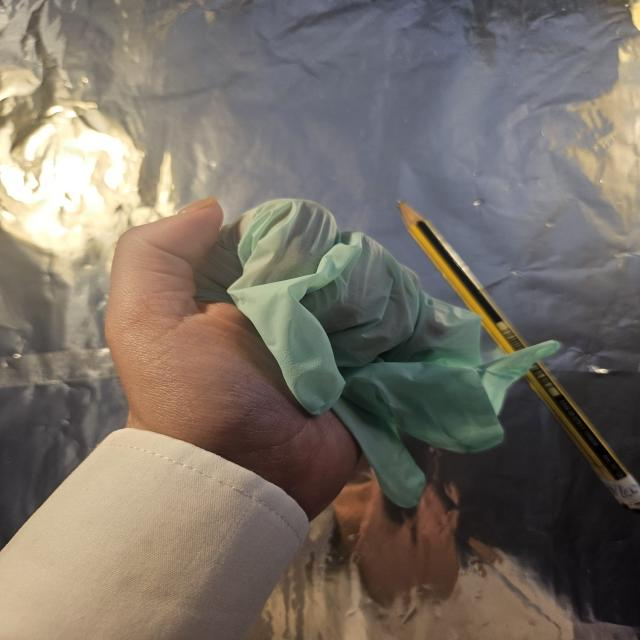glove_partial: (102, 194, 565, 510)
